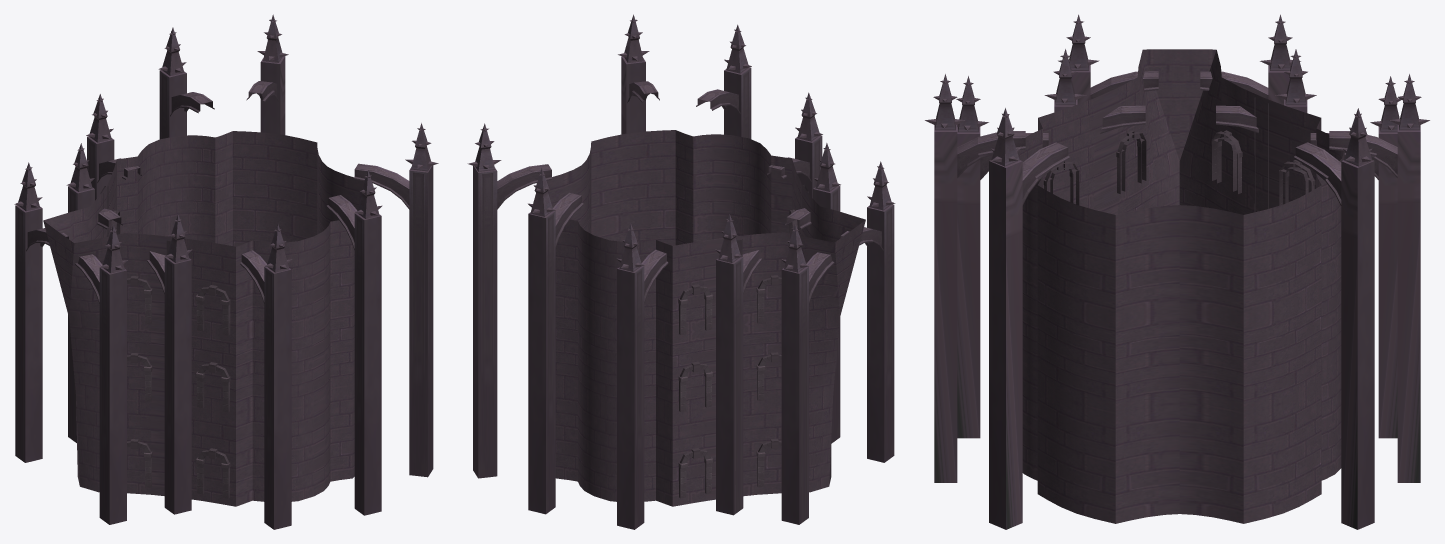
File: SD_xs_jizuo03.FBX
The picture shows the model from 3 angles, left to right: view 1: azimuth 30°, elevation 25°; view 2: azimuth 150°, elevation 25°; view 3: azimuth 270°, elevation 25°; orthographic projection. The views are drawn at different scales.
Parts seen in each view (by area): view 1: SD_xs_jizuo03; view 2: SD_xs_jizuo03; view 3: SD_xs_jizuo03.
Boxes of the visible parts, box(x1,y1,x2,y2) form: SD_xs_jizuo03: box(14, 14, 438, 529); SD_xs_jizuo03: box(467, 14, 895, 529); SD_xs_jizuo03: box(925, 14, 1429, 529).
Size of the model in its own units: 1320 by 1463 by 1604.
1 material, 1 textured.
